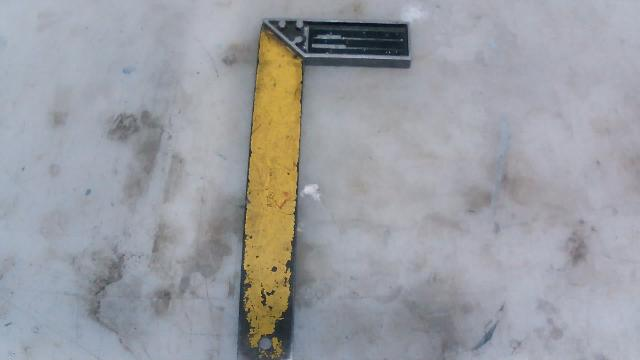penggaris_siku: (205, 3, 429, 360)
